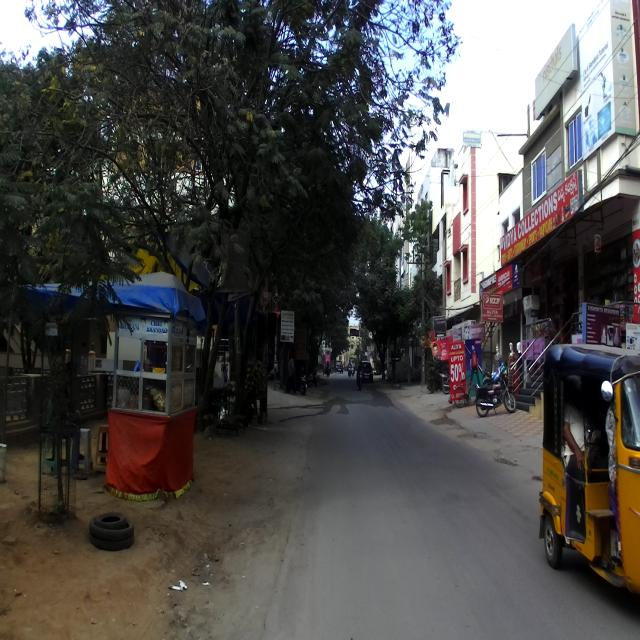auto ahead at: (540, 340, 640, 596)
motorcycle ahead at: (476, 364, 515, 419)
tree ahead at: (19, 64, 81, 523)
